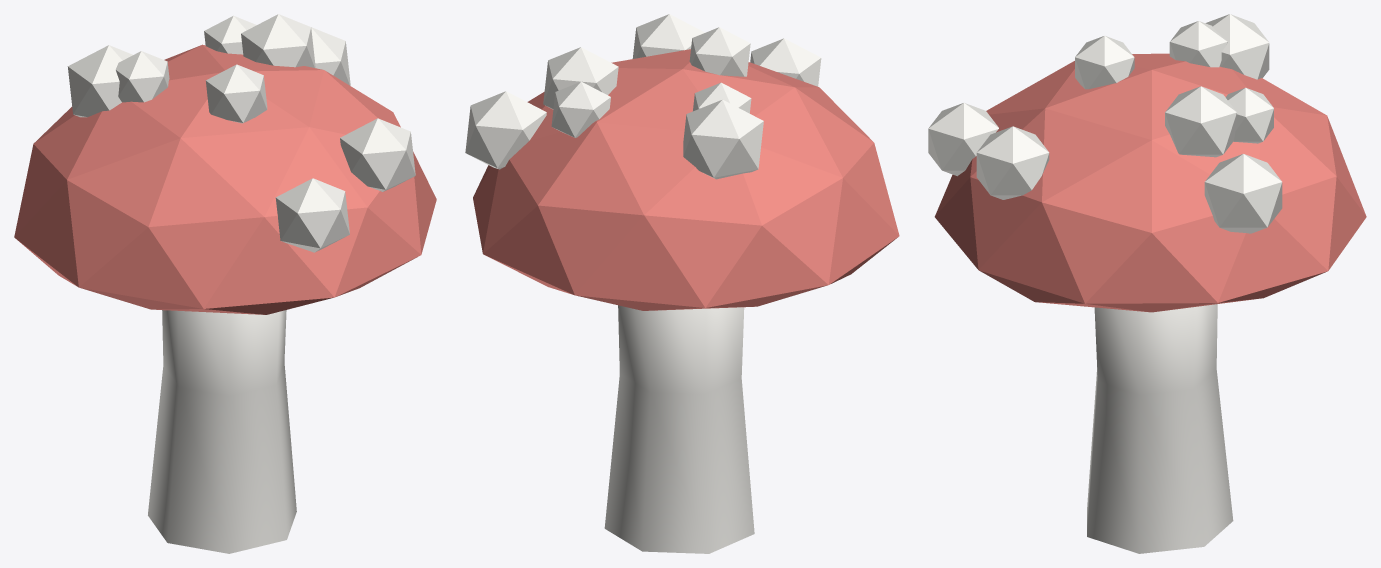
File: mushroom_red.glb
3 views of the same model, side by side, from view 1: azimuth 30°, elevation 25°; view 2: azimuth 150°, elevation 25°; view 3: azimuth 270°, elevation 25° (orthographic).
Visible parts, largest first — view 1: mushroom_red; view 2: mushroom_red; view 3: mushroom_red.
Part boxes in pixels (left/top/right/bottom): mushroom_red: left=14, top=14, right=436, bottom=553; mushroom_red: left=465, top=14, right=899, bottom=553; mushroom_red: left=928, top=14, right=1366, bottom=553.
Size of the model in its own units: 0.1729 by 0.2207 by 0.1823.
